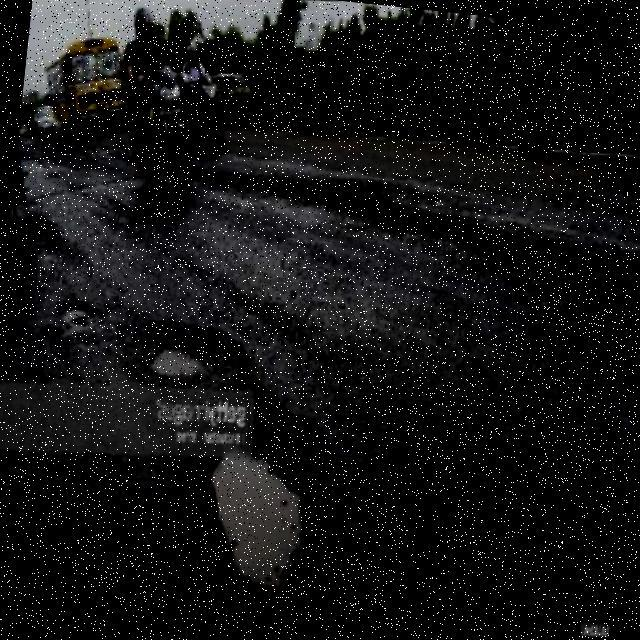Pothole: (123, 320, 354, 634)
